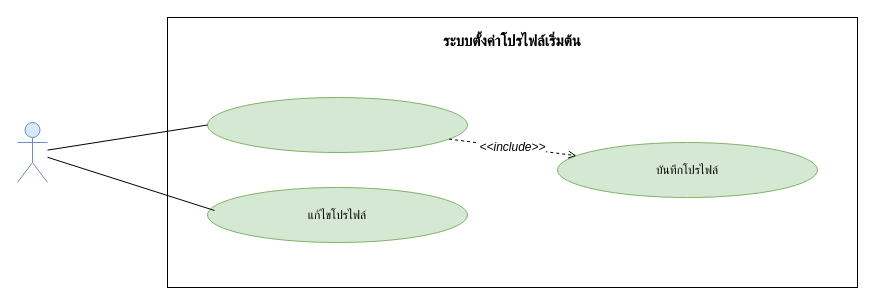
The diagram is 875 pixels wide and 305 high, and some of its shapes have lost their labels. The shapes that lost their labels are listed below. From the top down, each one's box as (x1, y1, x2, y2) in pixels, then its label:
(206, 96, 468, 152): กรอกข้อมูลพื้นฐาน
(16, 122, 48, 182): นักวิ่ง
